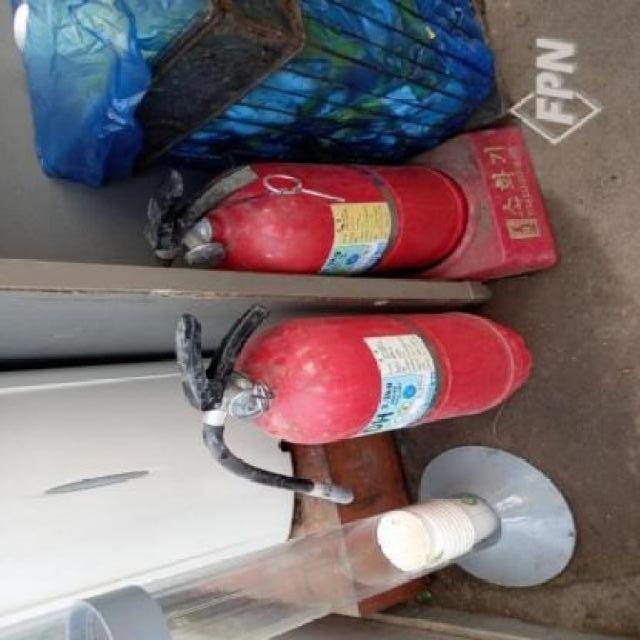fire extinguisher: (174, 304, 532, 505), (145, 163, 470, 274)
